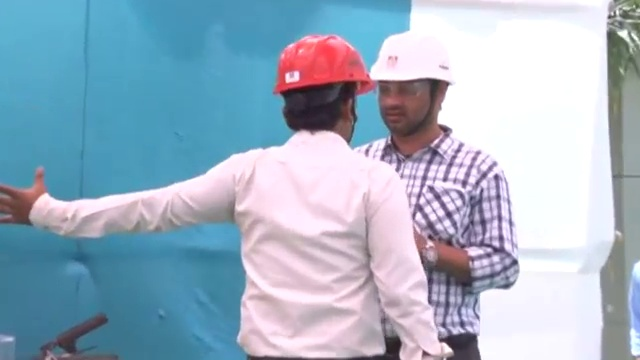helmet: (268, 31, 375, 98), (370, 28, 456, 87)
helmet_on: (267, 30, 375, 149), (369, 28, 457, 157)
person: (3, 32, 439, 360), (356, 28, 521, 360)
